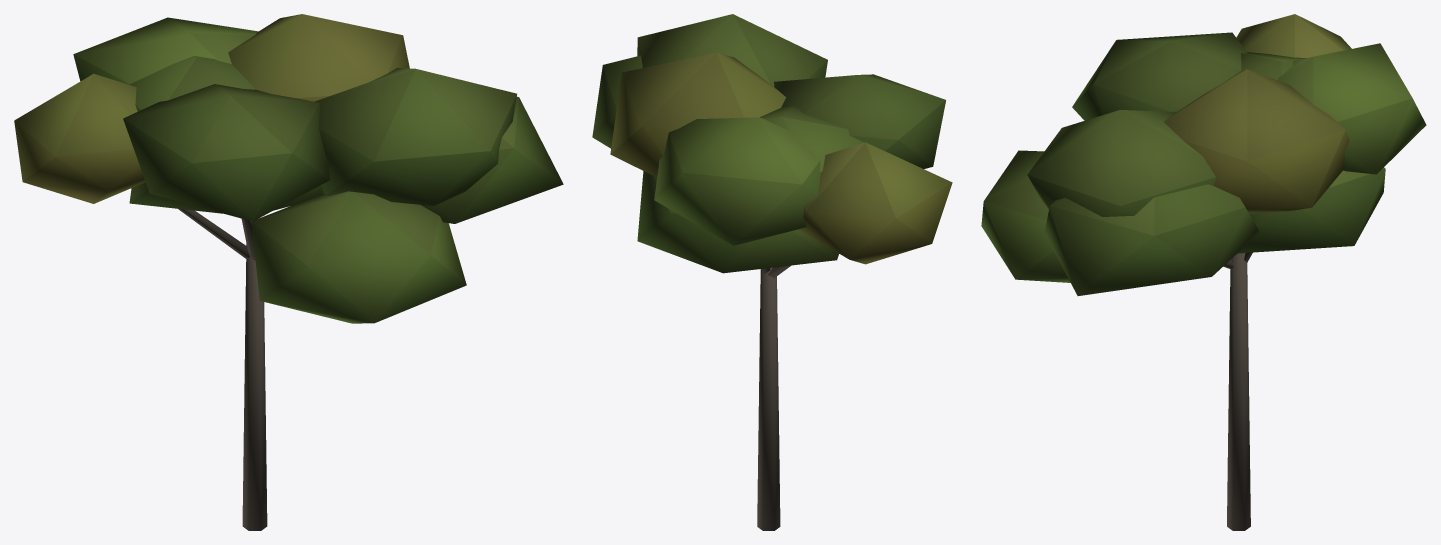
Rendered from env_miombo_a.glb.
3 views of the same model, side by side, from view 1: azimuth 30°, elevation 25°; view 2: azimuth 150°, elevation 25°; view 3: azimuth 270°, elevation 25° (orthographic). The views are drawn at different scales.
Parts seen in each view (by area): view 1: env_miombo_a; view 2: env_miombo_a; view 3: env_miombo_a.
Boxes of the visible parts, box(x1,y1,x2,y2) form: env_miombo_a: box(14, 14, 563, 530); env_miombo_a: box(592, 14, 952, 530); env_miombo_a: box(981, 14, 1426, 530).
Bounding box in the file's own units: 11.99 × 13.26 × 11.1.
